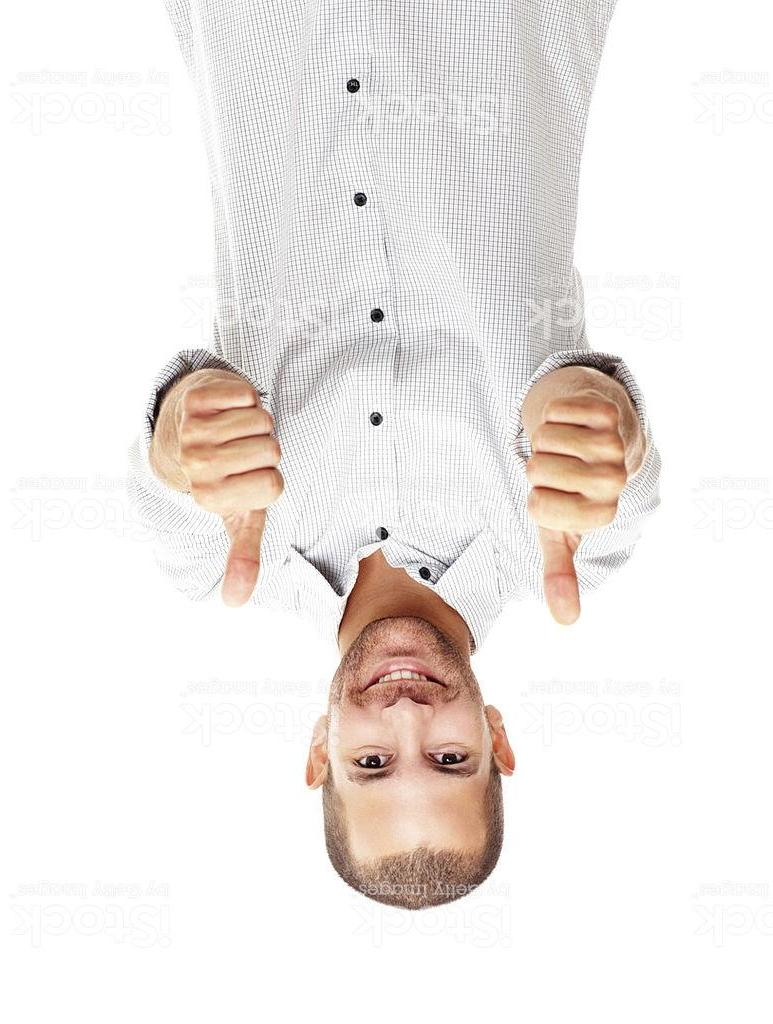thumbsdown: (175, 371, 288, 609), (525, 391, 629, 628)
